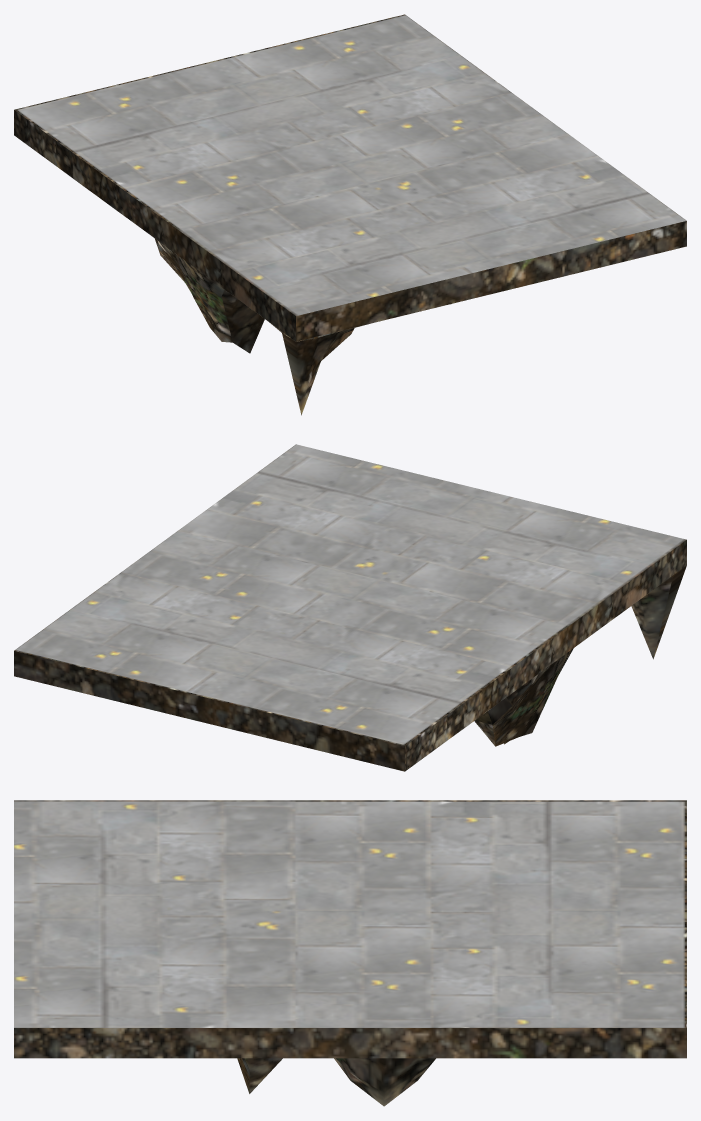
Rendered from Ground 002.fbx.
3 renders of one model, top to bottom at view 1: azimuth 30°, elevation 25°; view 2: azimuth 150°, elevation 25°; view 3: azimuth 270°, elevation 25°, orthographic. The views are drawn at different scales.
Parts seen in each view (by area): view 1: Ground_002; view 2: Ground_002; view 3: Ground_002.
Part boxes in pixels (<box>): Ground_002: <box>14,14,686,415</box>; Ground_002: <box>14,444,686,771</box>; Ground_002: <box>14,800,686,1106</box>.
Size of the model in its own units: 1601 by 540 by 2000.
